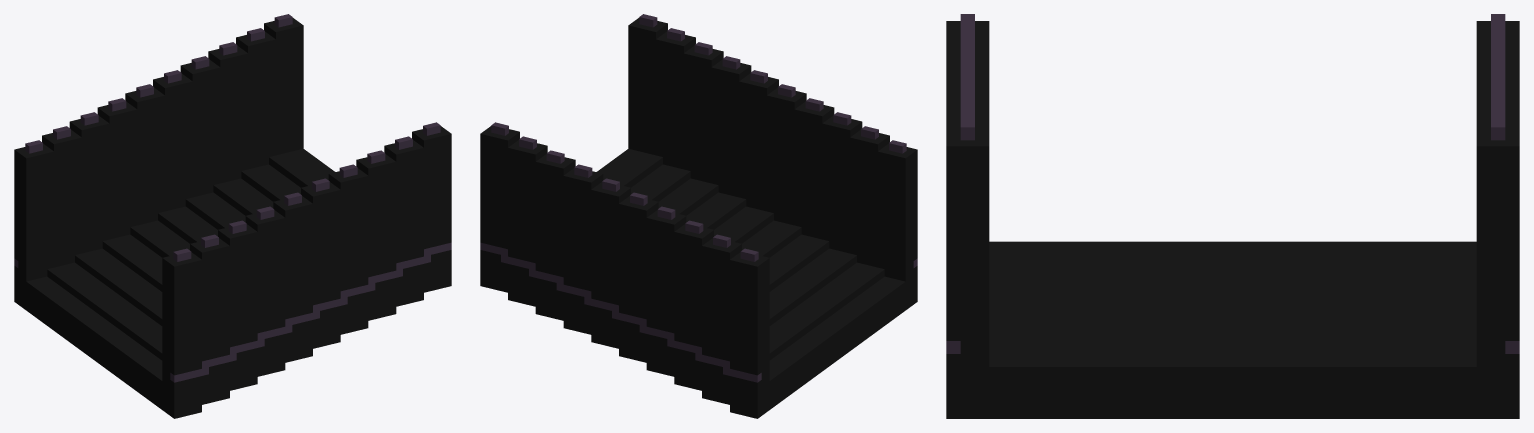
The model's file is Factory Bits-6-Ramp.obj.
3 renders of one model, left to right at view 1: azimuth 30°, elevation 25°; view 2: azimuth 150°, elevation 25°; view 3: azimuth 270°, elevation 25°, orthographic. The views are drawn at different scales.
Parts seen in each view (by area): view 1: Ramp; view 2: Ramp; view 3: Ramp.
Part boxes in pixels (bbox=[...]): Ramp: bbox=[14, 14, 451, 418]; Ramp: bbox=[480, 14, 917, 418]; Ramp: bbox=[946, 14, 1519, 418].
Bounding box in the file's own units: 4 × 3.1 × 4.
Materials: 1 (1 with a texture image).
